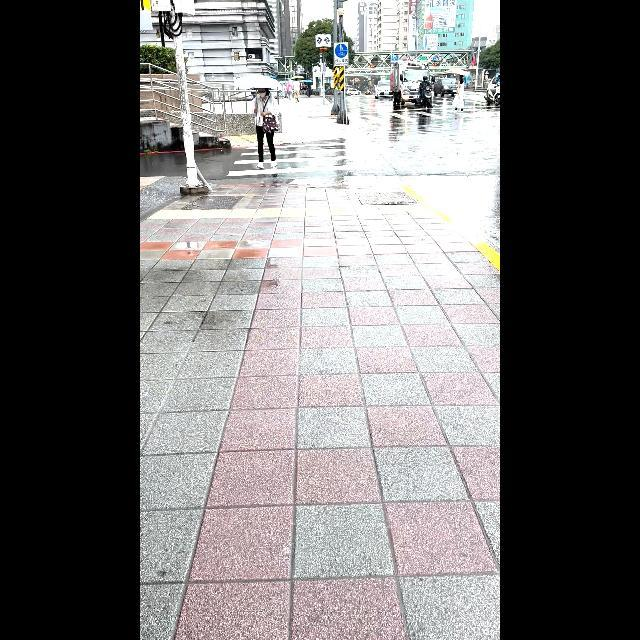sidewalk: (224, 136, 397, 179)
